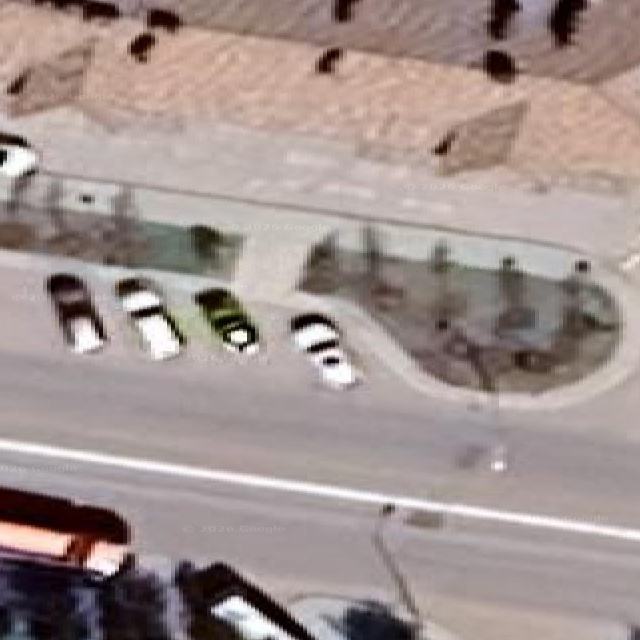car: (0, 487, 131, 584), (173, 562, 316, 639), (116, 276, 183, 359), (289, 312, 360, 387), (45, 272, 105, 352), (193, 287, 256, 352), (0, 132, 36, 178), (128, 32, 156, 62), (145, 9, 180, 32), (81, 0, 120, 20)
